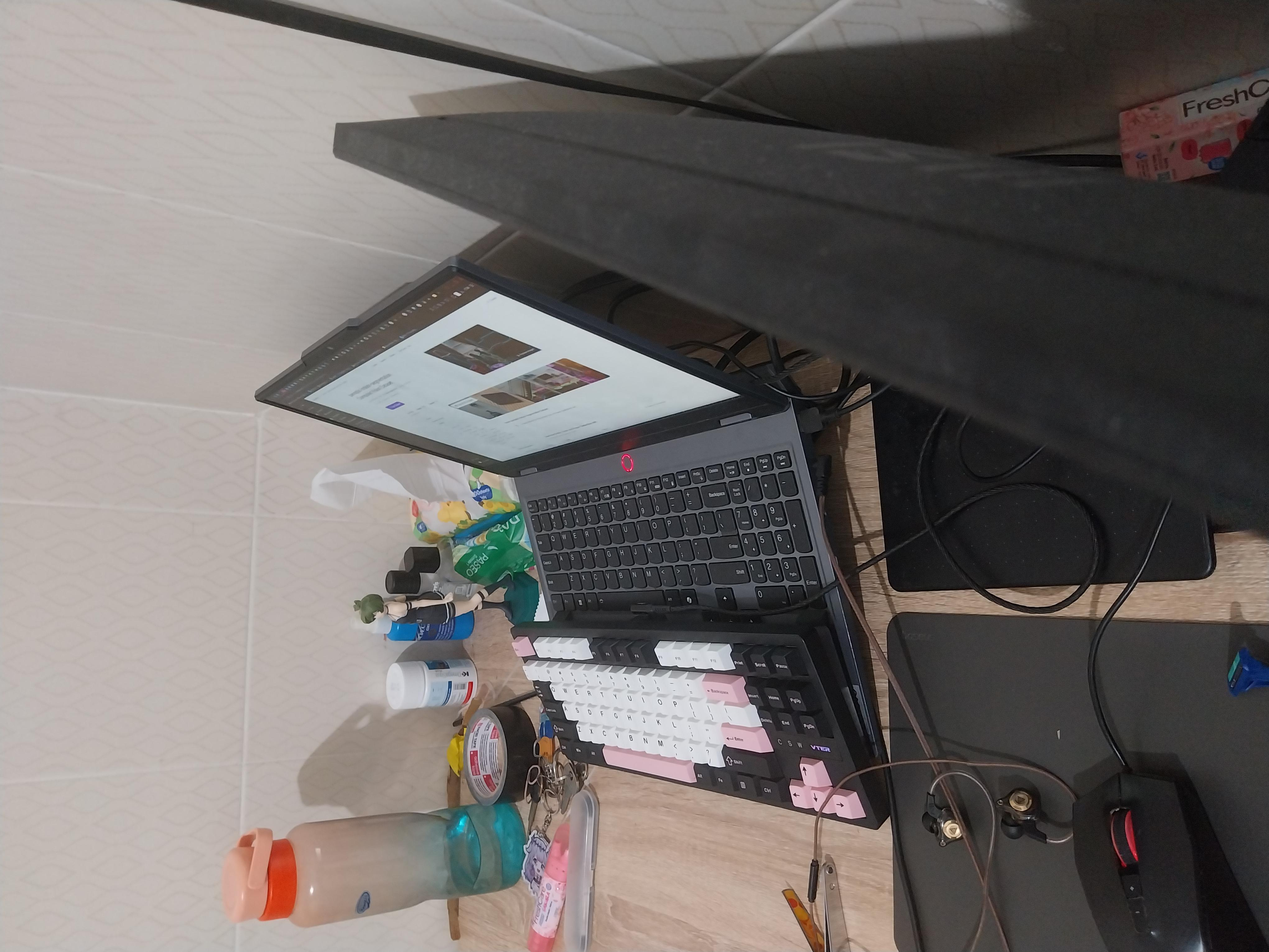keyboard: (75, 363, 683, 669)
laptop: (298, 191, 1073, 673), (318, 166, 1002, 668)
